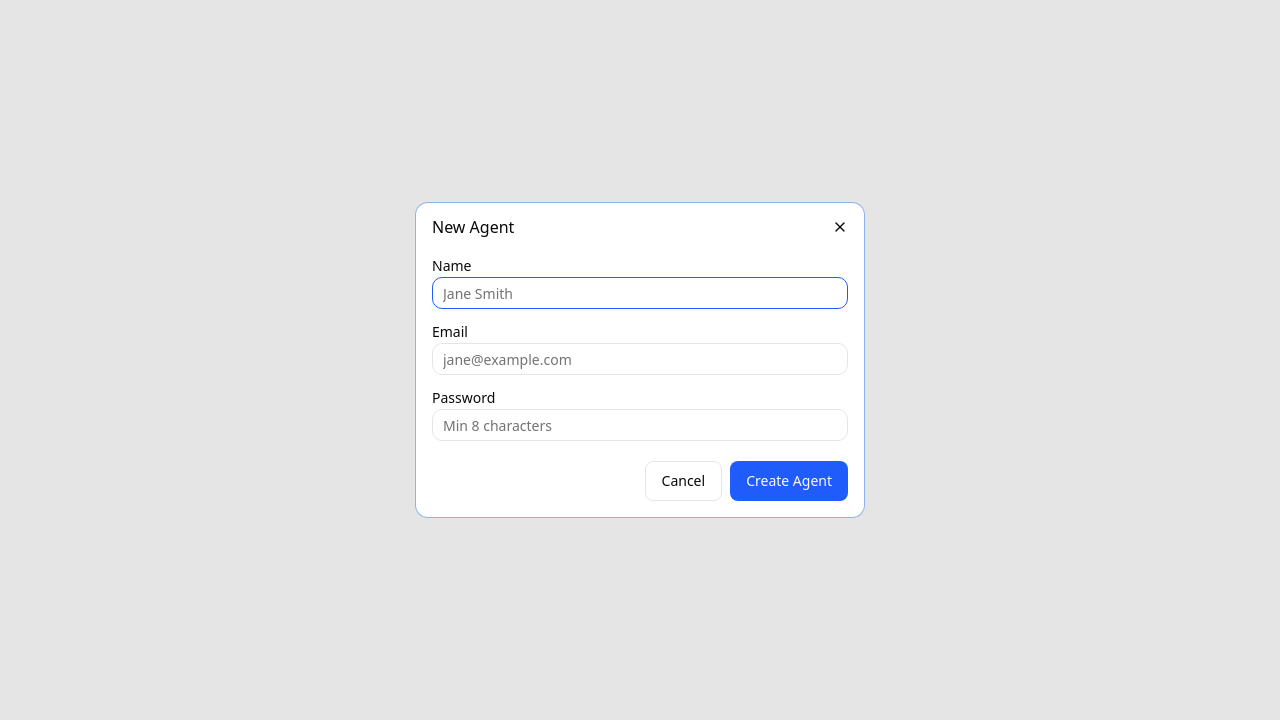
Test: CreateUserModal › validation › shows invalid email error
This screenshot has width=1280, height=720.
Type "not-an-email" into the field labelled "Email" at {"x": 640, "y": 359}, box [432,343,848,375]
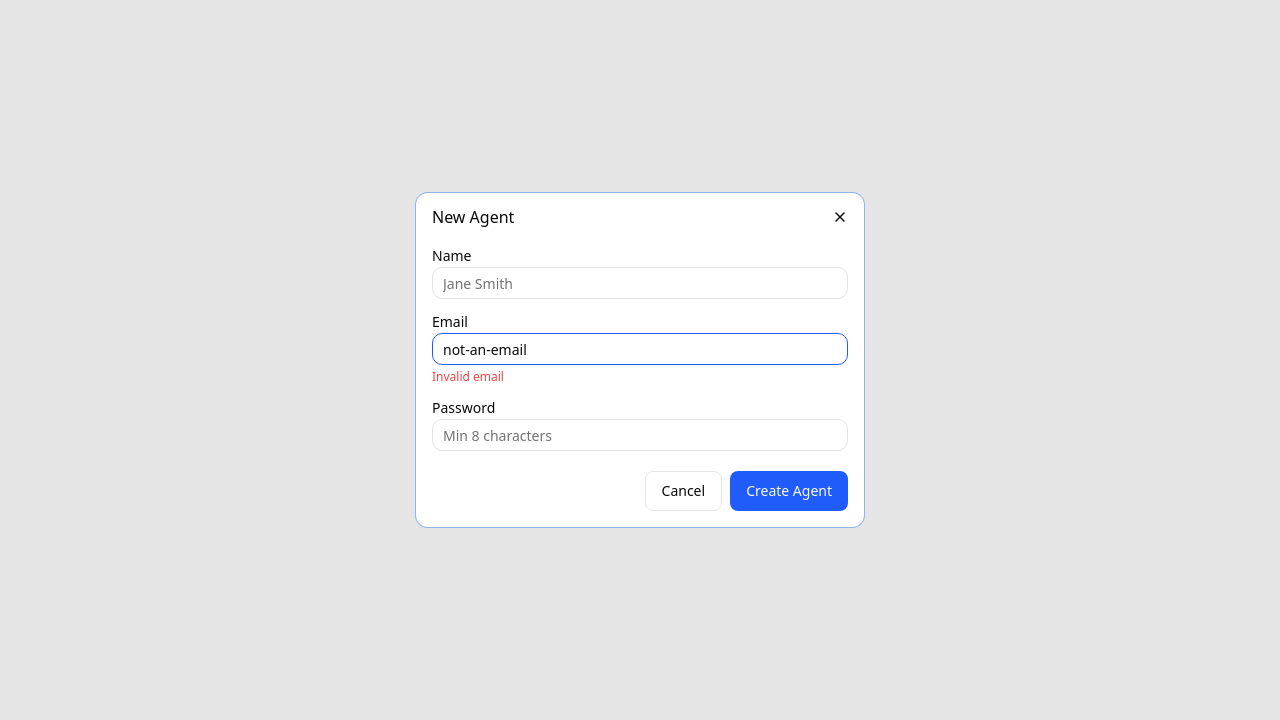
Now the text "Invalid email" is shown, box [432,368,504,385]
